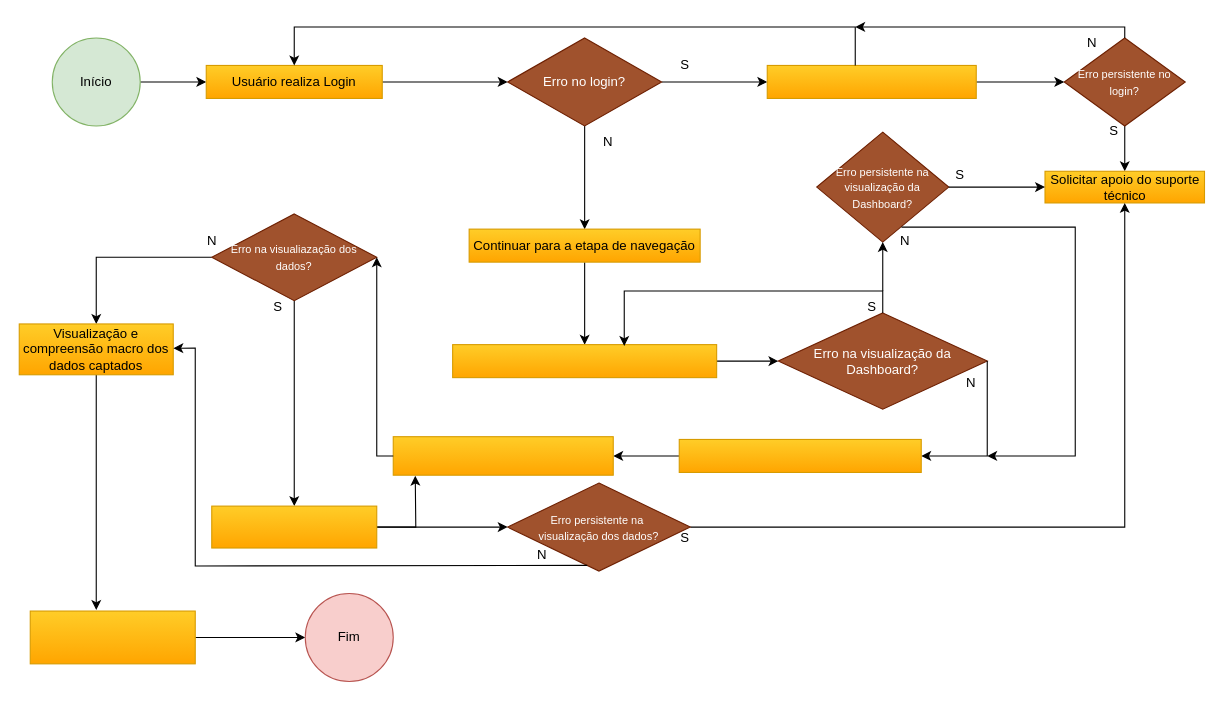
This 1224x701 diagram has some shape labels left out. The centre of each missing label's shape, as x and y in pixels:
"Acessa Dashboard com gráficos e dados de temperatura e umidade em tempo real" belongs at (584,361).
"Atualização da página e verificação do servidor" belongs at (294,526).
"Processo de monitoramento concluído" belongs at (112,637).
"Prosseguir para a análise dos dados" belongs at (799,455).
"Verificar os campos preenchidos ou recuperar senha" belongs at (871,81).
"Visualização dos dados plotados" belongs at (502,455).
